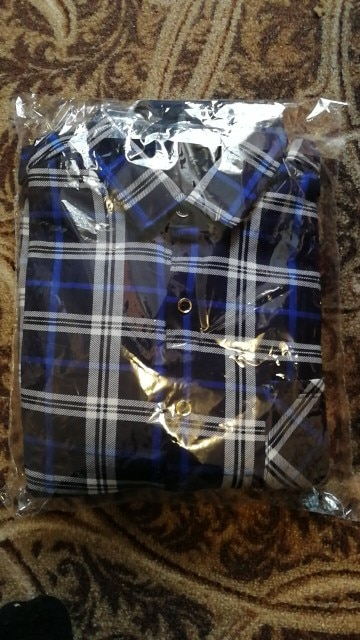shirts: (18, 131, 328, 491)
